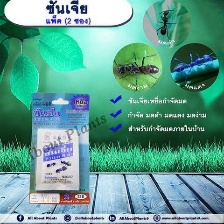book: (26, 90, 92, 206)
insecticide: (32, 126, 82, 195)
